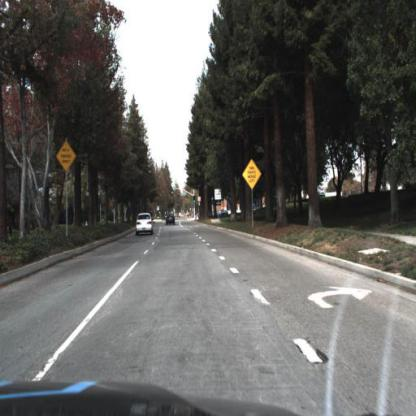car: (134, 212, 156, 239), (165, 213, 177, 229)
